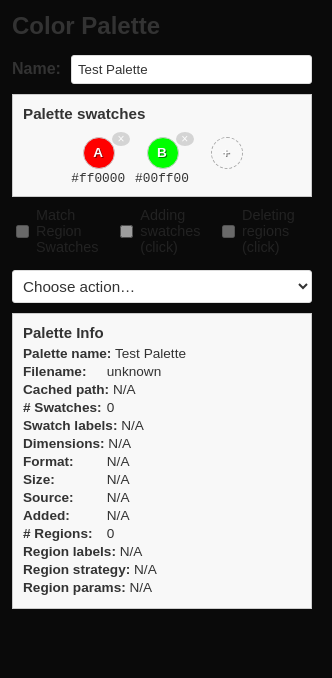
it: PaletteDisplay › shows Region Detection dropdown when Detect All Regions is selected
Select "Detect All Regions" in the dropdown named "Choose action" at (162, 286), box [12,270,312,303]
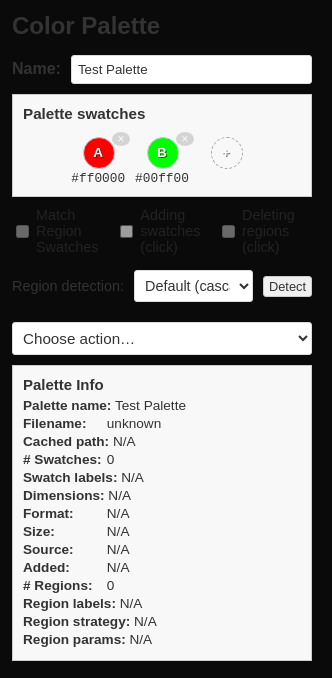
Now the dropdown named "Region detection approach" is shown, box [134,270,253,302]
Now the button with aria-label "Detect regions" is shown, box [263,276,312,296]
